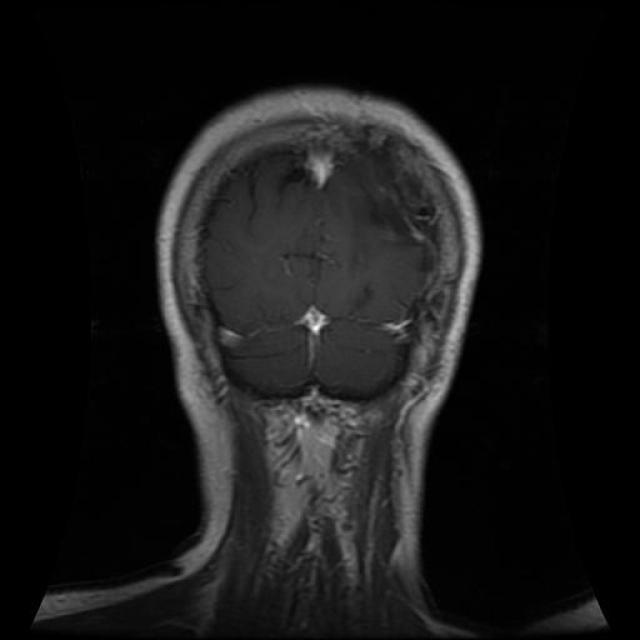glioma: (296, 304, 335, 336)
